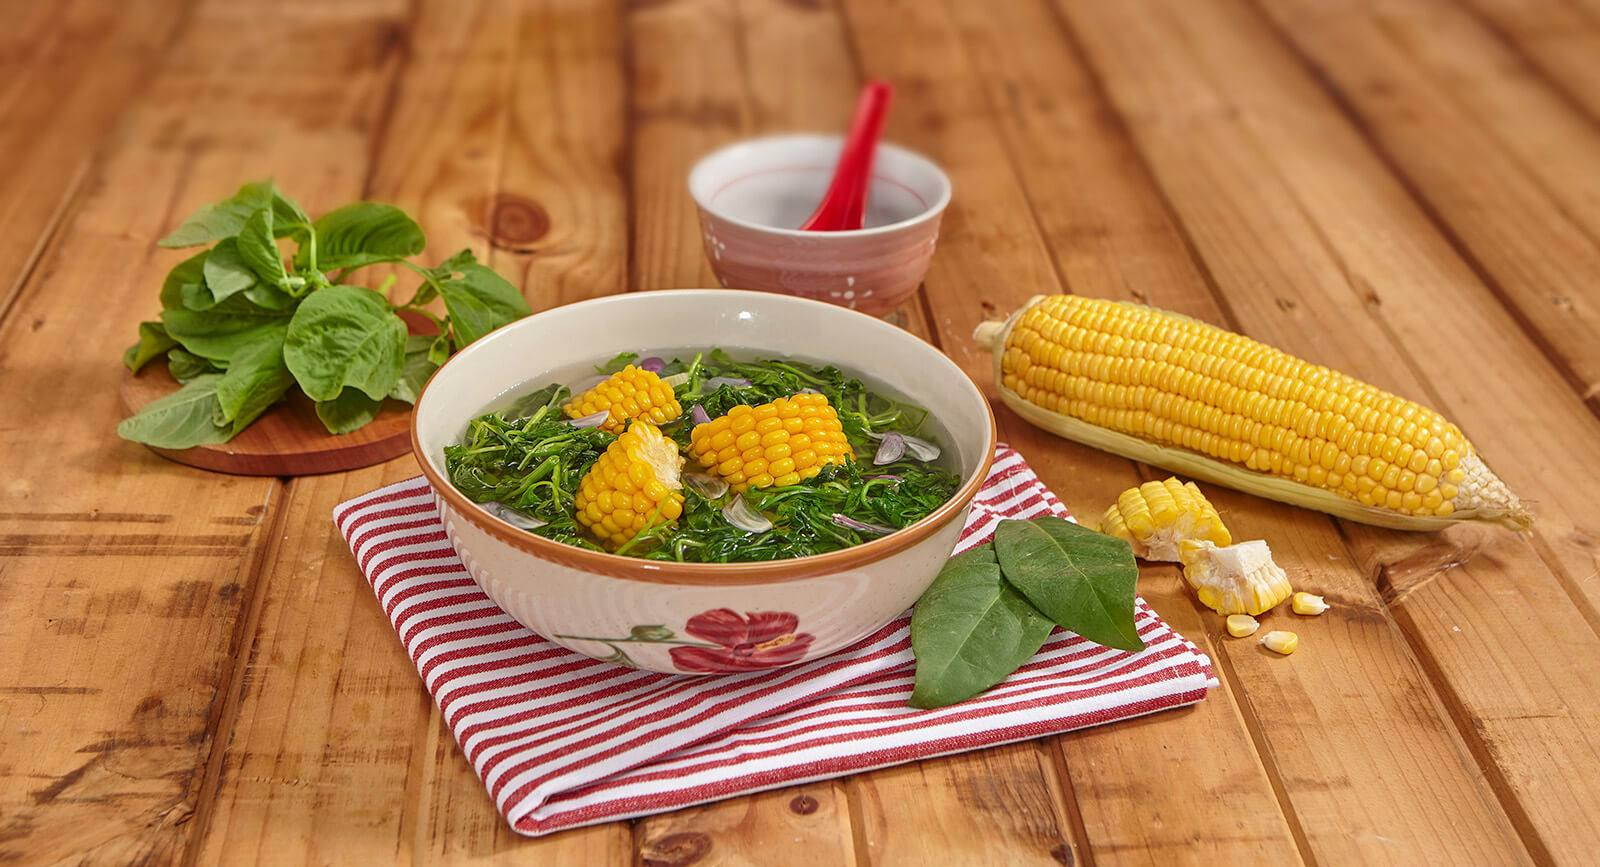Sayur Bayam: (416, 338, 1005, 679)
